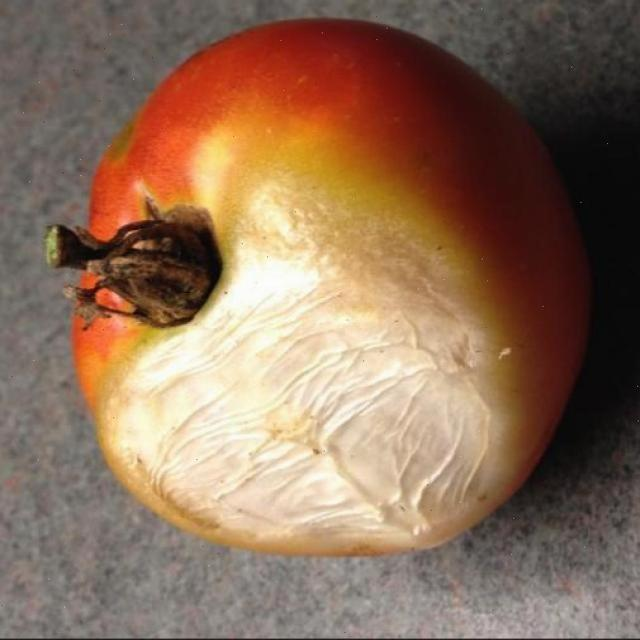Sunscald Fruit: (62, 118, 358, 374)
